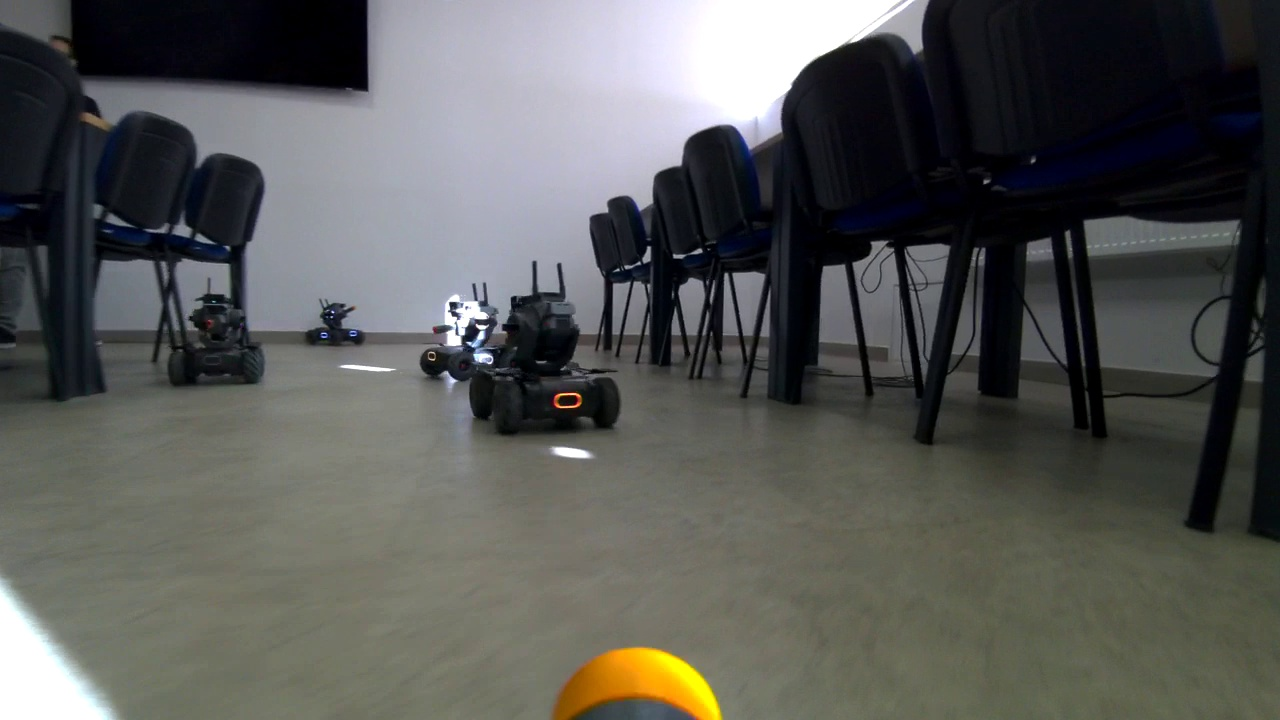robot: (477, 288, 623, 429), (168, 291, 270, 380), (423, 295, 511, 373), (309, 302, 370, 343)
